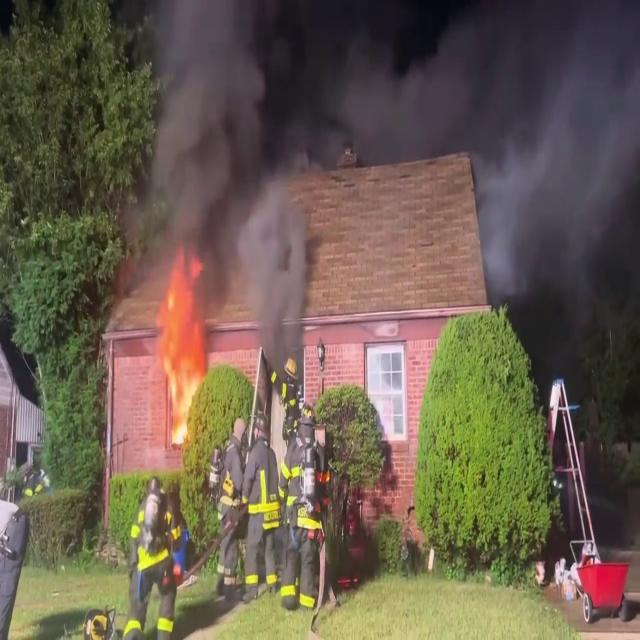Fire: (156, 263, 208, 442)
Smoke: (122, 0, 635, 174), (481, 0, 640, 395), (118, 0, 315, 301)
